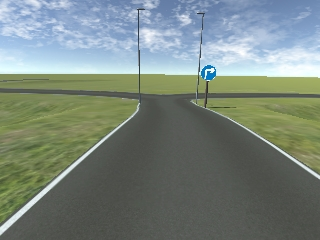right: (201, 65, 215, 80)
